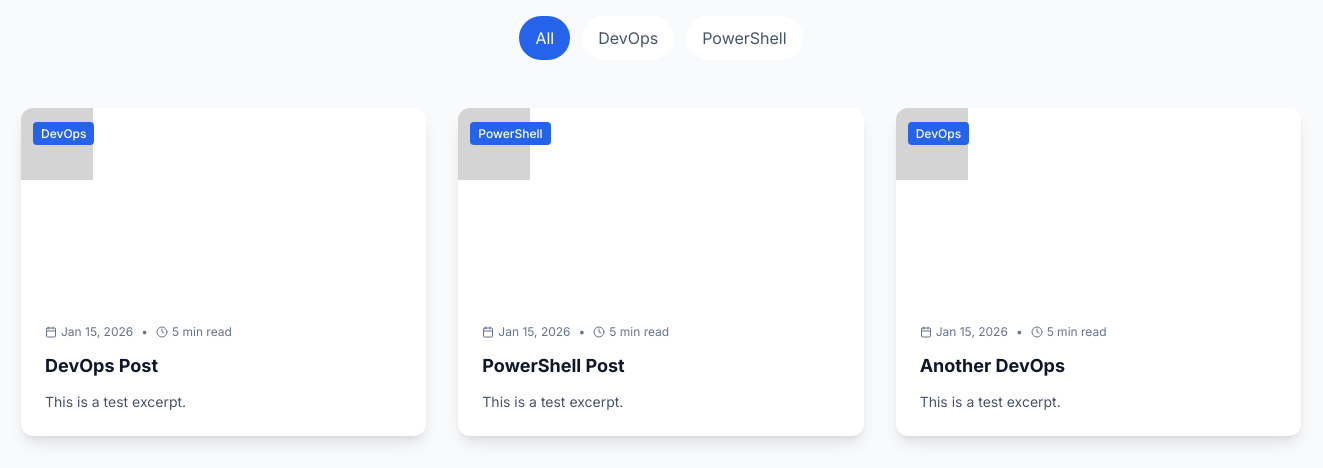
Test: BlogPostGrid › filters posts by category when a category button is clicked
Expected: the heading "DevOps Post" is shown, [45, 355, 158, 376]
Expected: the heading "PowerShell Post" is shown, [482, 355, 625, 376]
Click PowerShell filter
Click the button "PowerShell": (744, 38) [686, 16, 803, 60]
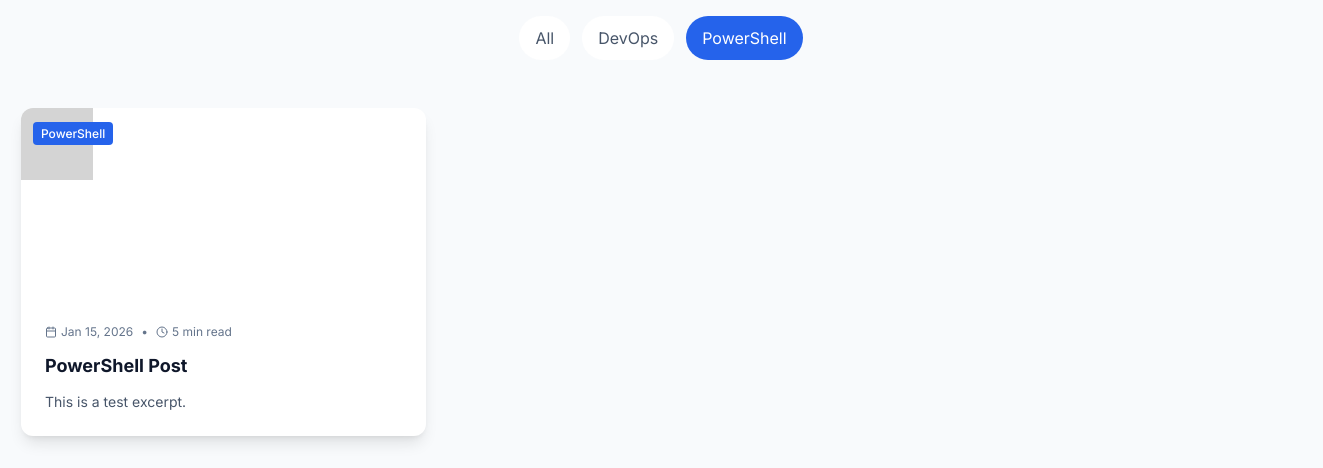
Expected: the heading "PowerShell Post" is shown, [45, 355, 187, 376]
Expected: the link "DevOps Post" is gone
Expected: the link "Another DevOps" is gone
